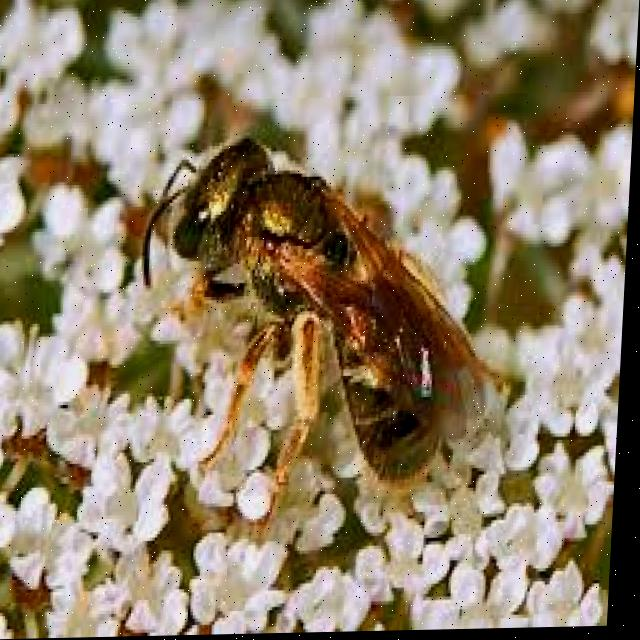Seladonia: (134, 121, 493, 507)
